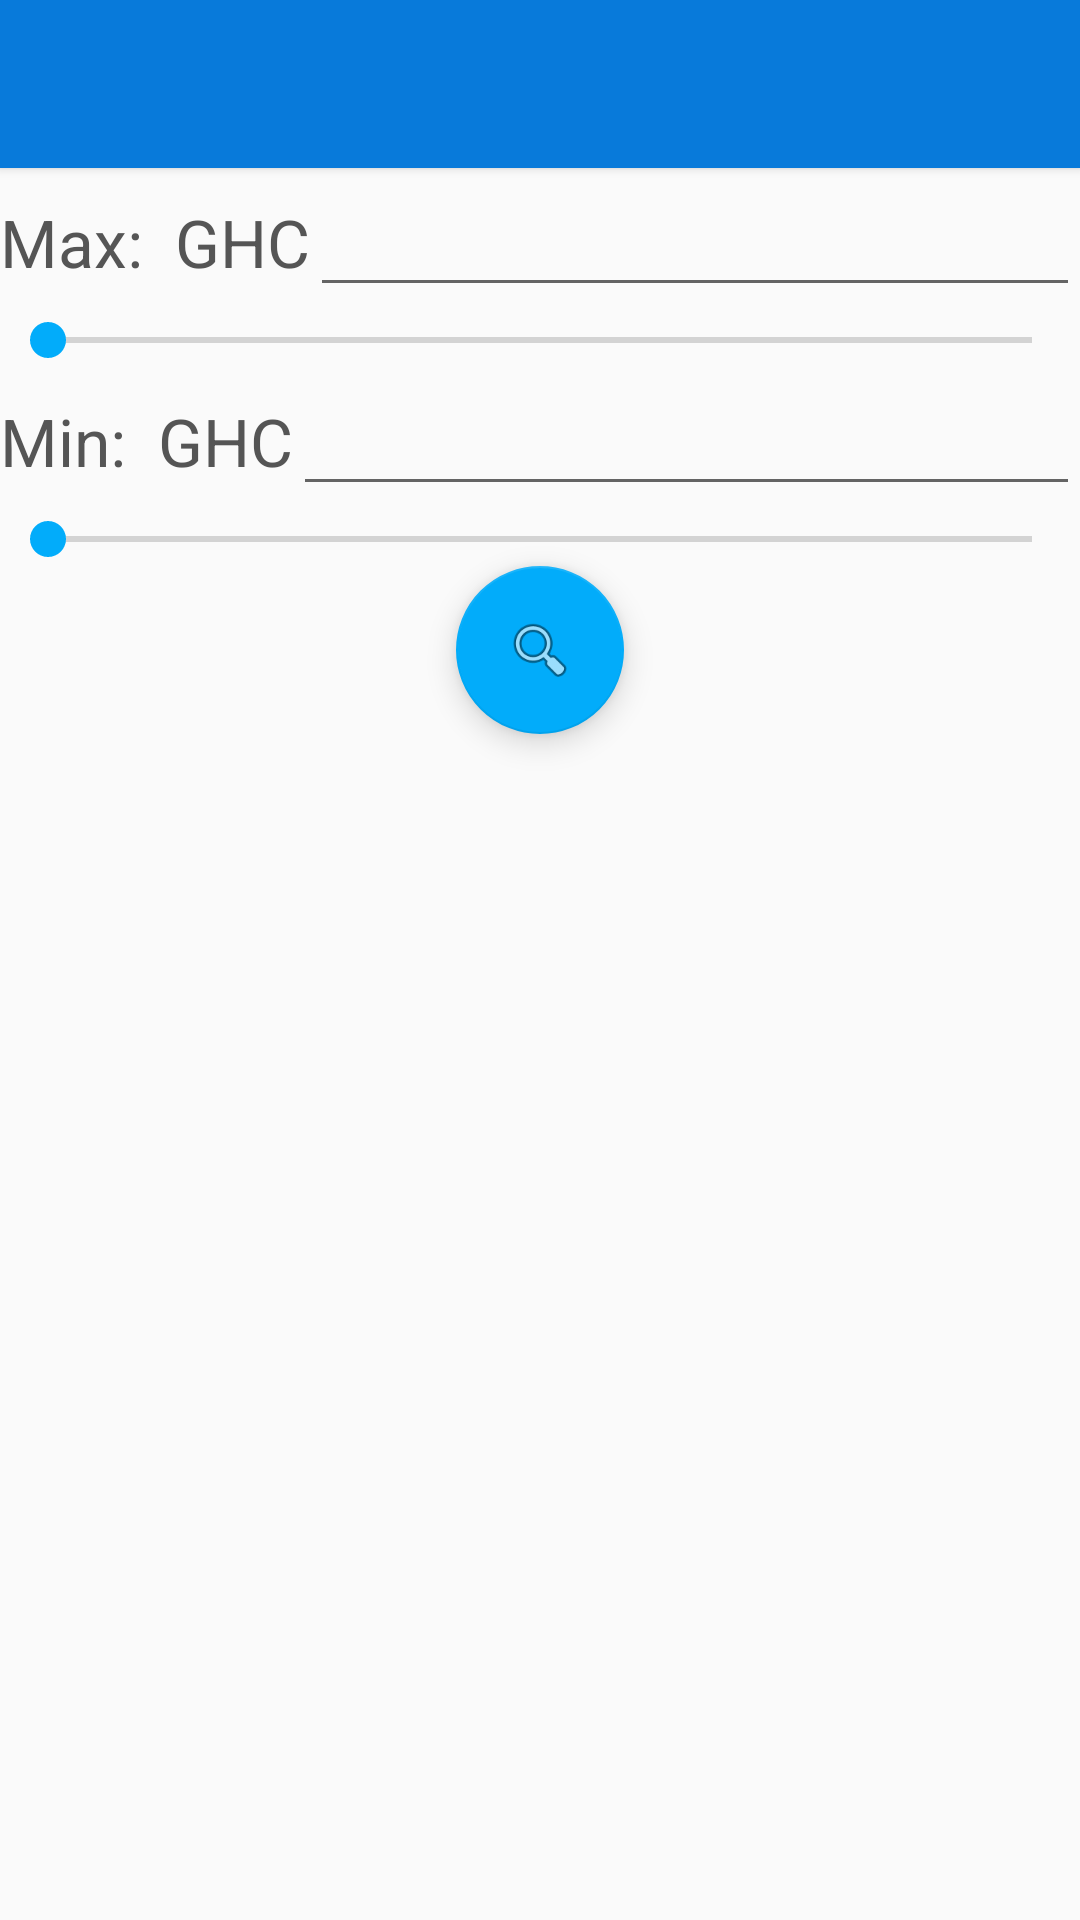

Locate icon controls on the screen. Image size 1080 × 1920, boxes as box=[x1, y1, x2, y2].
search: box=[456, 566, 624, 734]
